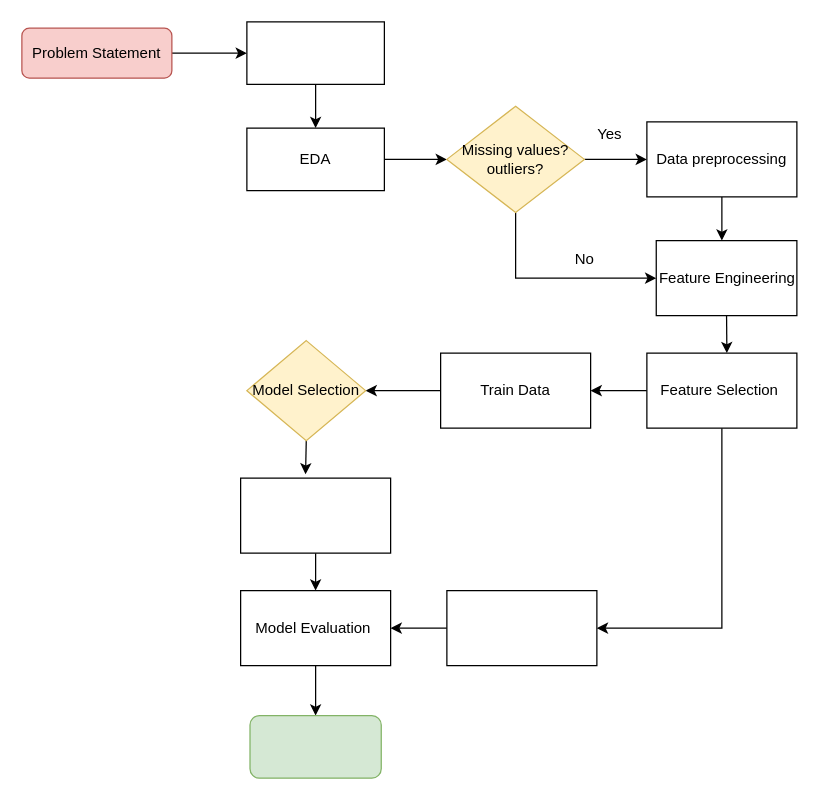
This 819x800 diagram has some shape labels left out. Here are the shapes that lost their labels. From the top down, the centre of each, then its label:
At point 315,52: "Obtain data".
At point 315,515: "Hyperparameter Tuning".
At point 521,627: "Test Data".
At point 315,746: "Deployment".
